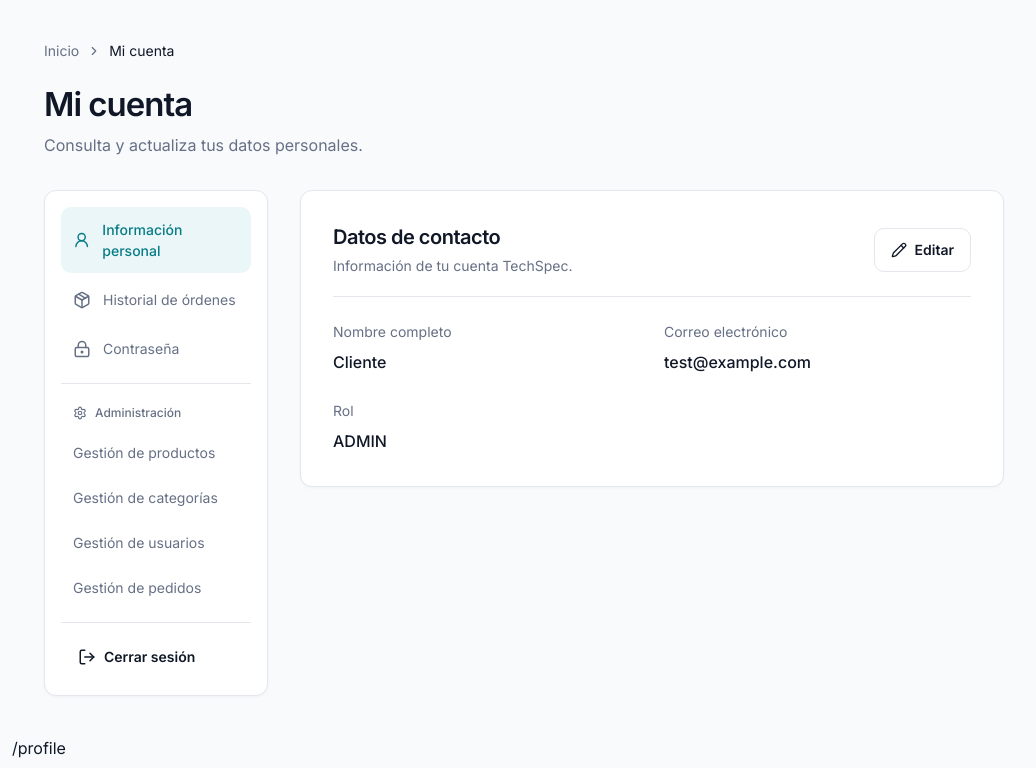
it: Profile redesign › retains the draft on failure and keeps admin navigation and logout
The width and height of the screenshot is (1036, 768).
Click the button "Editar".
click(922, 250)  # box [874,228,971,272]
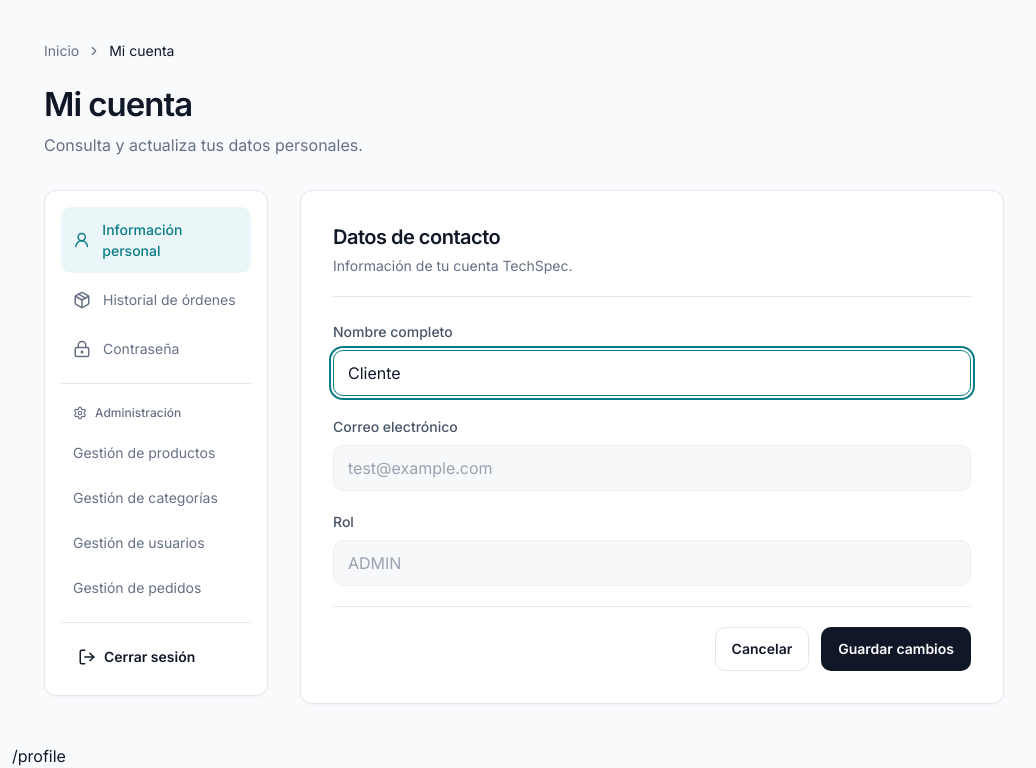
Replace the text in the field labelled "Nombre completo" with "Borrador" at [652, 373], box [333,350,971,396]
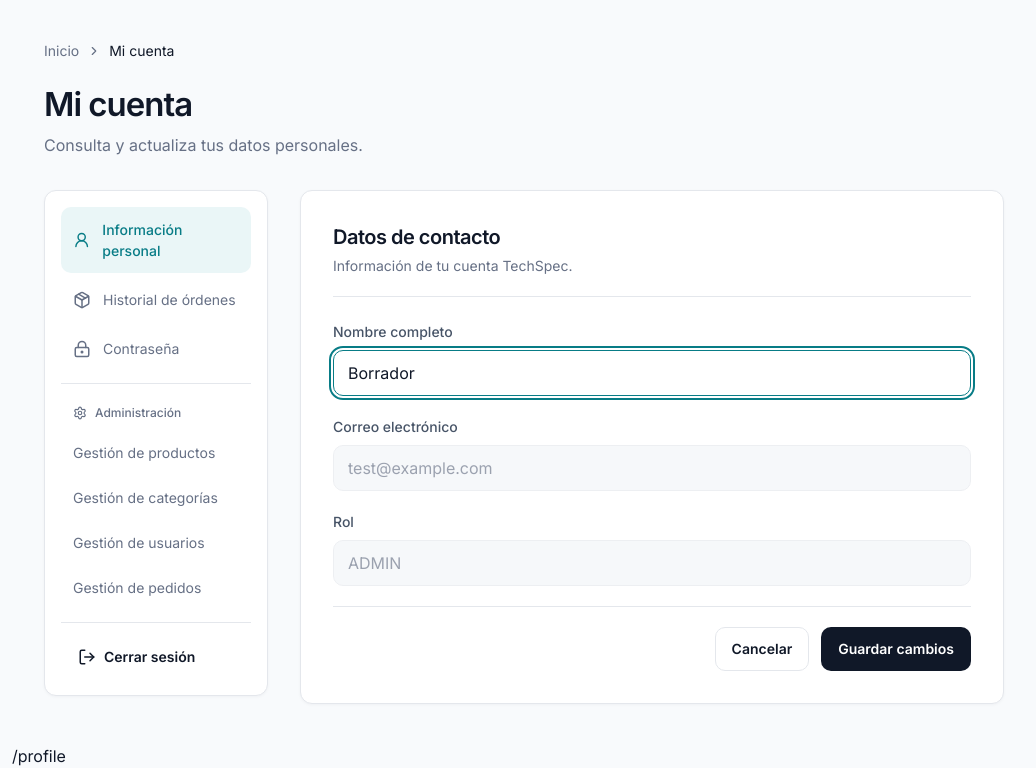
Click the button "Guardar cambios".
click(896, 649)  # box [821,627,971,671]
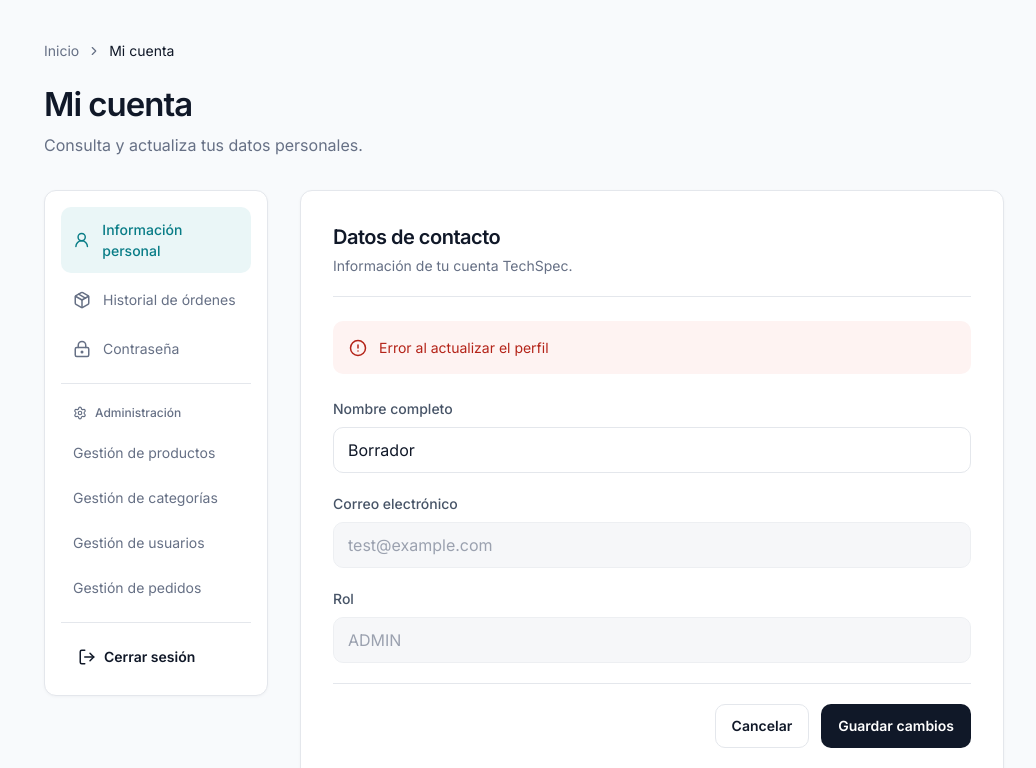
Expected: the message reads "Error al actualizar el perfil", [379,339,549,356]
Click the button "Cerrar sesión".
click(156, 657)  # box [61,635,251,679]
(page scrolled)
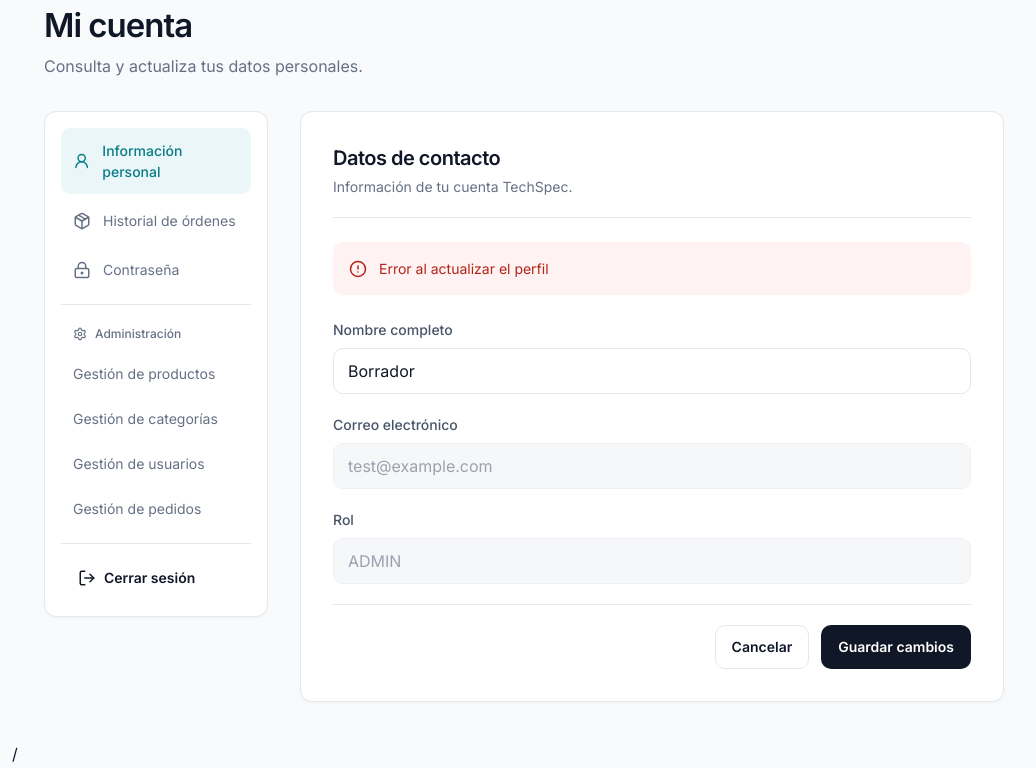
Expected: the text named "Ruta actual" reads "/", [12,744,18,764]
